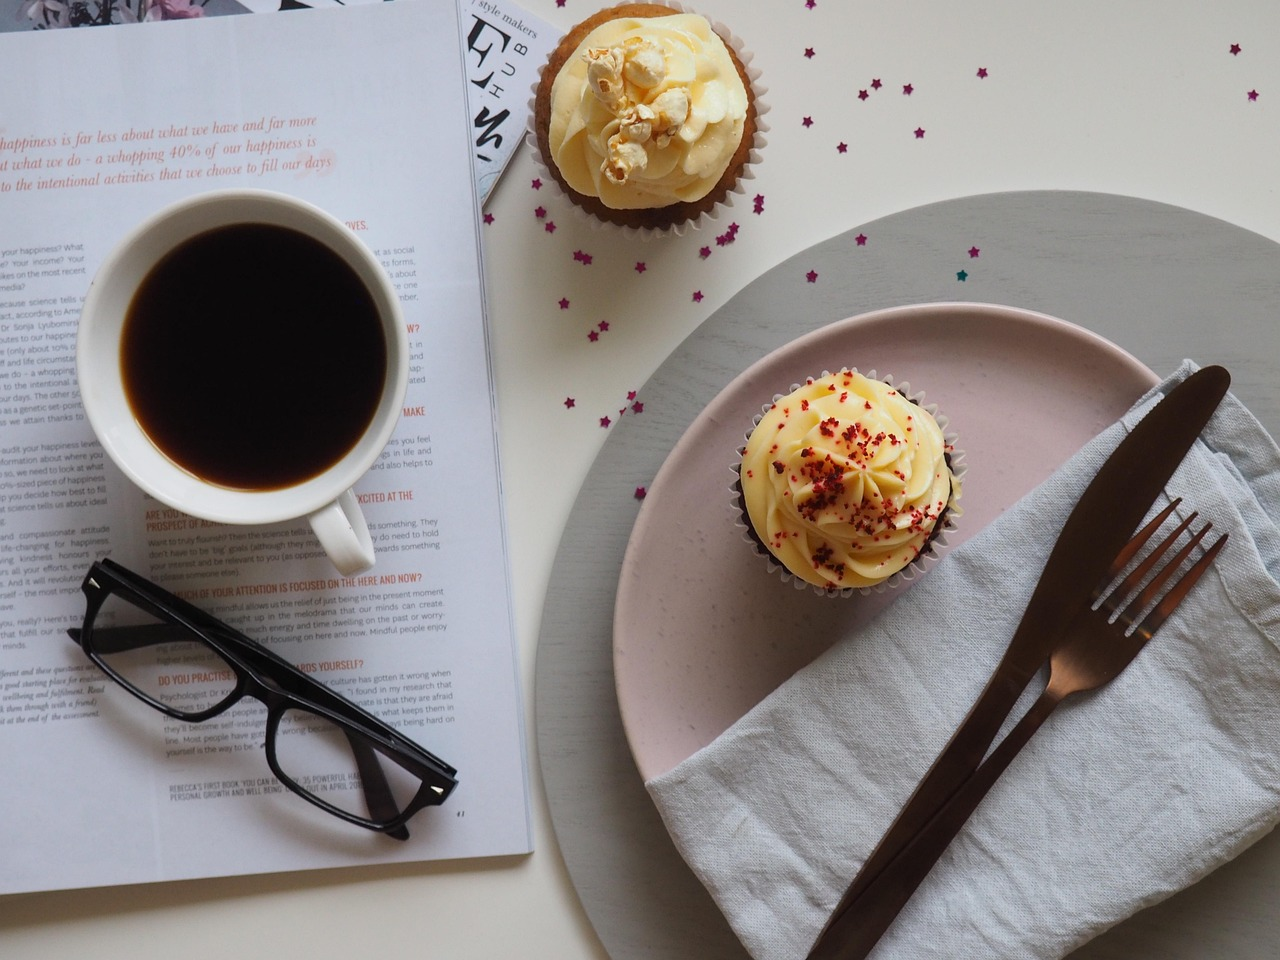mug: (113, 175, 471, 604)
